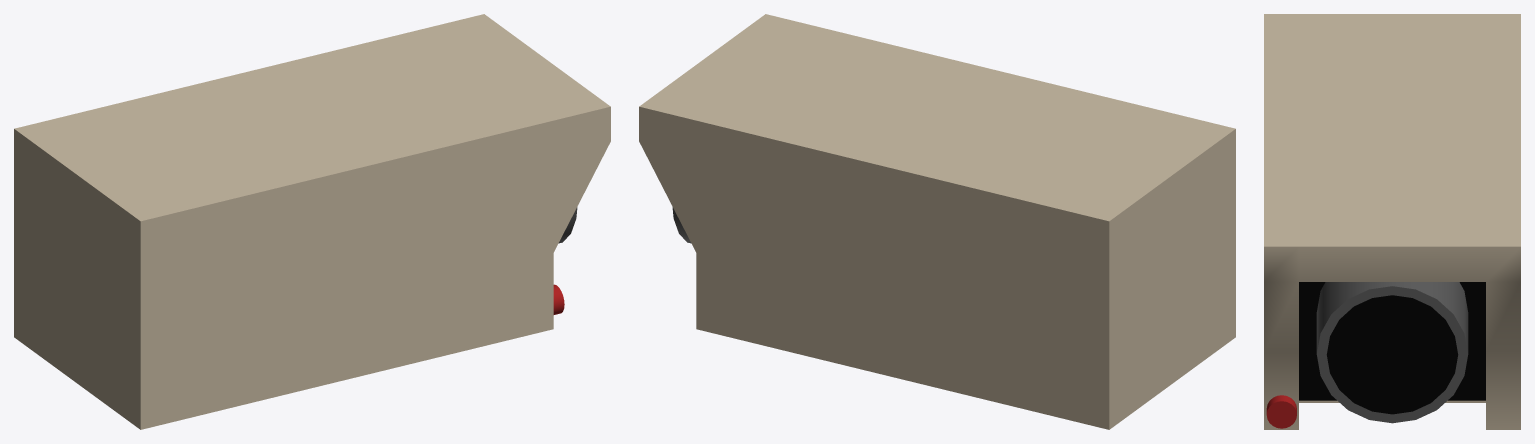
File: security camera.fbx
The picture shows the model from 3 angles, left to right: view 1: azimuth 30°, elevation 25°; view 2: azimuth 150°, elevation 25°; view 3: azimuth 270°, elevation 25°; orthographic projection.
Visible parts, largest first — view 1: pCube36; view 2: pCube36; view 3: pCube36.
Boxes of the visible parts, x1=… form: pCube36: x1=14, y1=14, x2=610, y2=429; pCube36: x1=639, y1=14, x2=1235, y2=429; pCube36: x1=1264, y1=14, x2=1520, y2=429.
Bounding box in the file's own units: 4.45 × 1.88 × 2.07.
